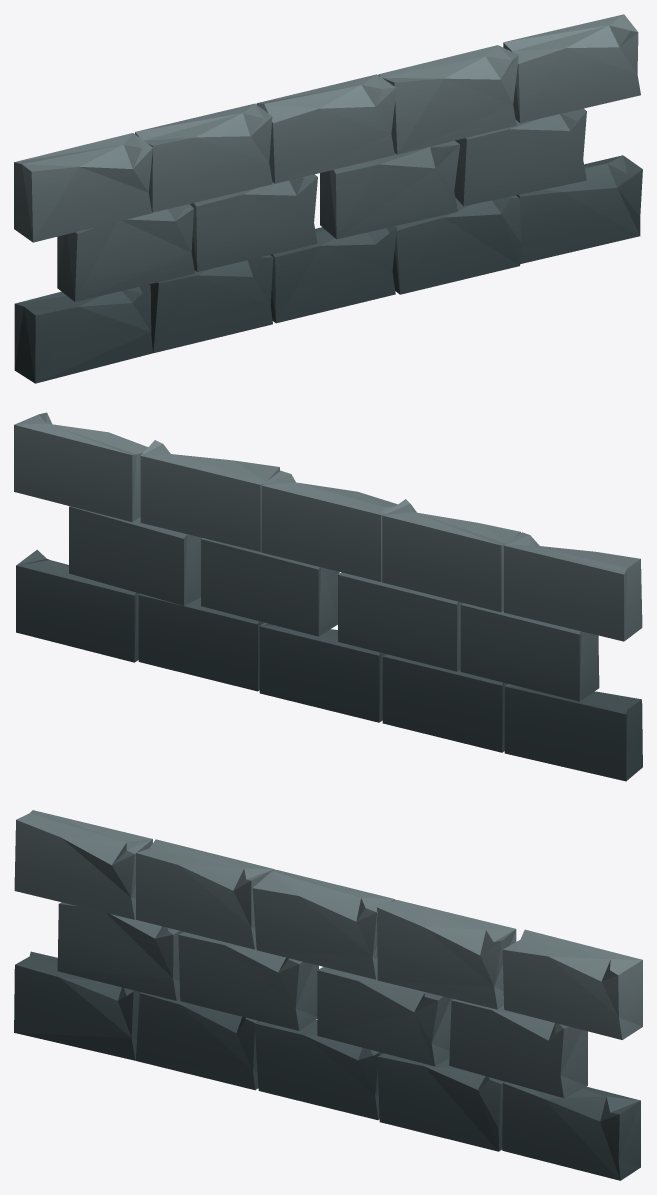
The model's file is StoneWall.fbx.
3 renders of one model, top to bottom at view 1: azimuth 30°, elevation 25°; view 2: azimuth 150°, elevation 25°; view 3: azimuth 330°, elevation 25°, orthographic.
Visible parts, largest first — view 1: StoneWall; view 2: StoneWall; view 3: StoneWall.
Part boxes in pixels (x1,y1,x2,y2): StoneWall: [14, 14, 642, 383]; StoneWall: [14, 412, 642, 781]; StoneWall: [14, 810, 642, 1180].
Size of the model in its own units: 3.01 by 1 by 0.2.
1 material, 1 textured.
